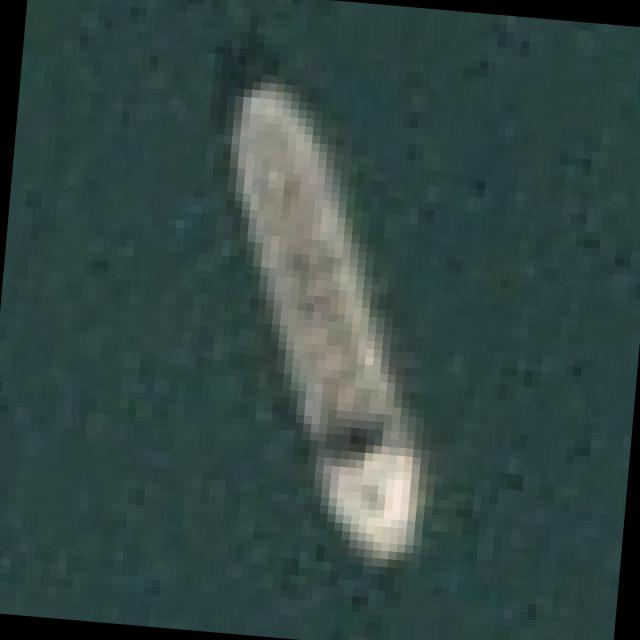ship: (138, 30, 538, 579)
